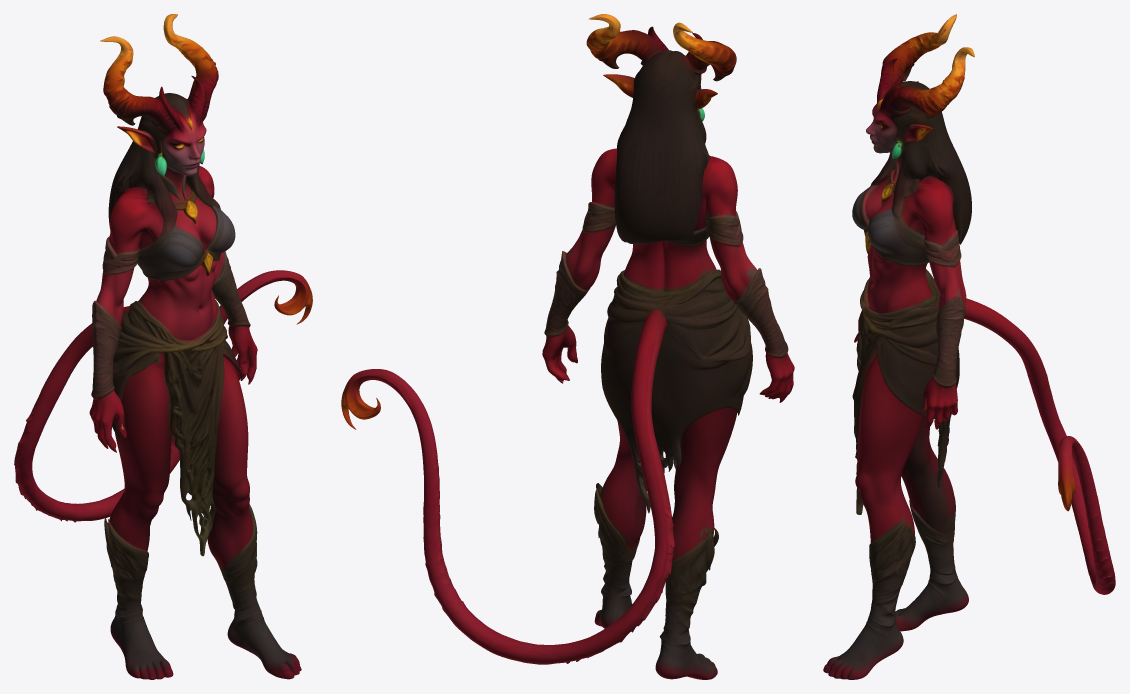
The model's file is tiefling_druid_full_female_01.glb.
The picture shows the model from 3 angles, left to right: view 1: azimuth 30°, elevation 25°; view 2: azimuth 150°, elevation 25°; view 3: azimuth 270°, elevation 25°; orthographic projection. The views are drawn at different scales.
Parts seen in each view (by area): view 1: material; view 2: material; view 3: material.
Boxes of the visible parts, x1,y1,x2,y2 form: material: (14,14,312,679); material: (341,14,794,679); material: (823,14,1115,679).
Size of the model in its own units: 0.589 by 1.1 by 0.4838.
Materials: 1 (1 with a texture image).
